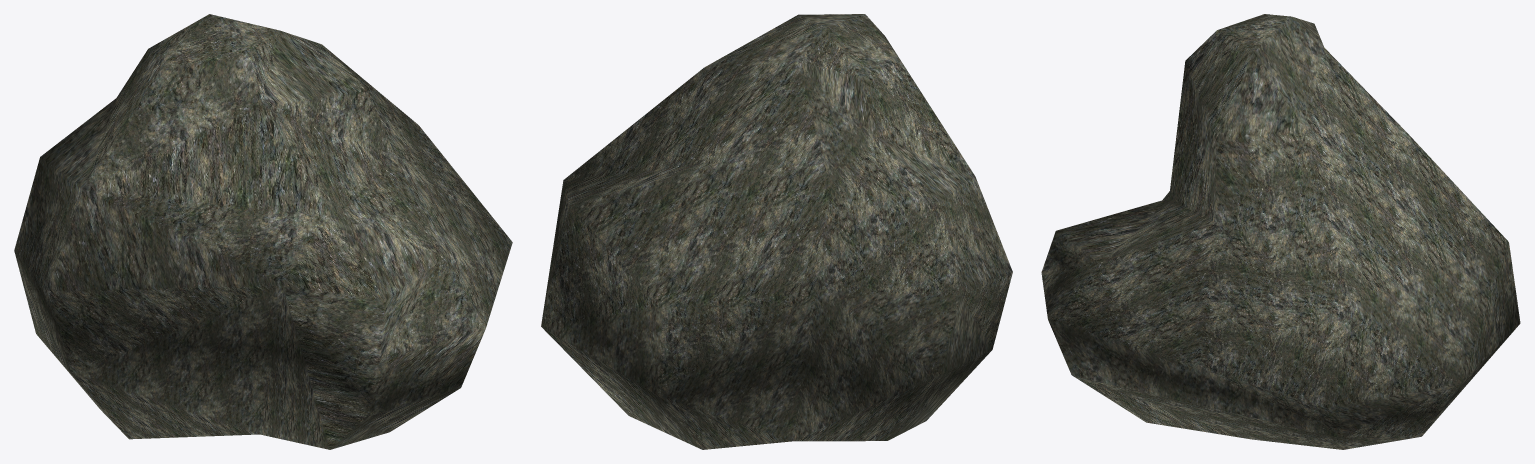
File: mtns_rock_grey_a6_l1.fbx
The picture shows the model from 3 angles, left to right: view 1: azimuth 30°, elevation 25°; view 2: azimuth 150°, elevation 25°; view 3: azimuth 270°, elevation 25°; orthographic projection. The views are drawn at different scales.
Visible parts, largest first — view 1: mesh_node; view 2: mesh_node; view 3: mesh_node.
Part boxes in pixels (bbox=[...]): mesh_node: bbox=[14, 14, 512, 449]; mesh_node: bbox=[541, 14, 1012, 449]; mesh_node: bbox=[1041, 14, 1520, 449].
Size of the model in its own units: 5.62 by 4.84 by 5.73.
Materials: 1 (1 with a texture image).
